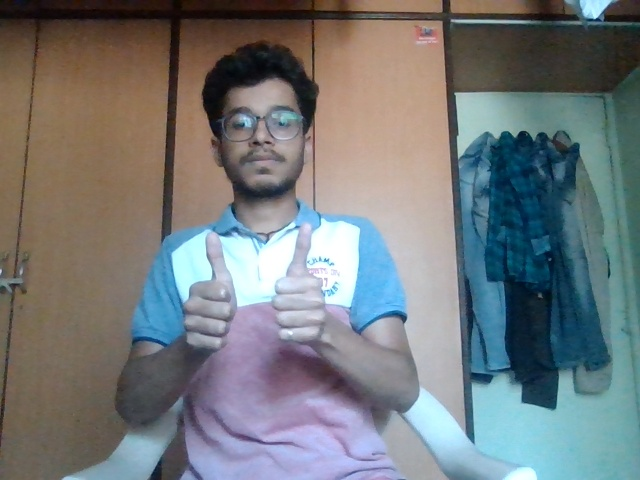thank-you: (178, 224, 336, 365)
